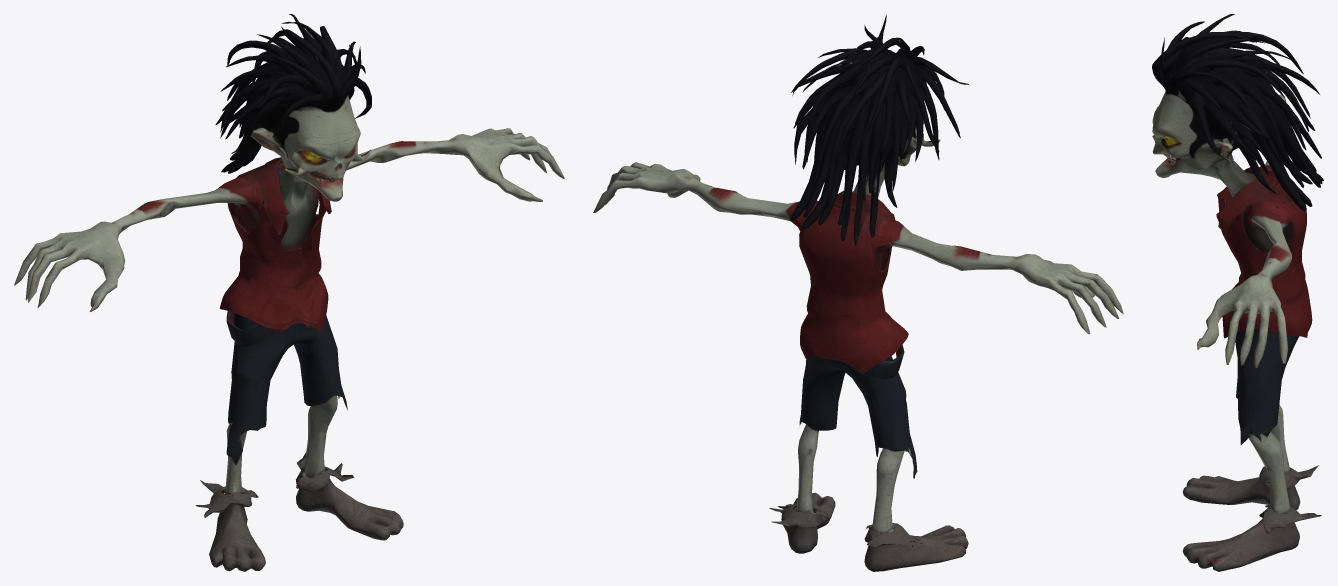
The picture shows the model from 3 angles, left to right: view 1: azimuth 30°, elevation 25°; view 2: azimuth 150°, elevation 25°; view 3: azimuth 270°, elevation 25°; orthographic projection. The views are drawn at different scales.
Size of the model in its own units: 1.9 by 1.77 by 0.5505.
1 material, 1 textured.
